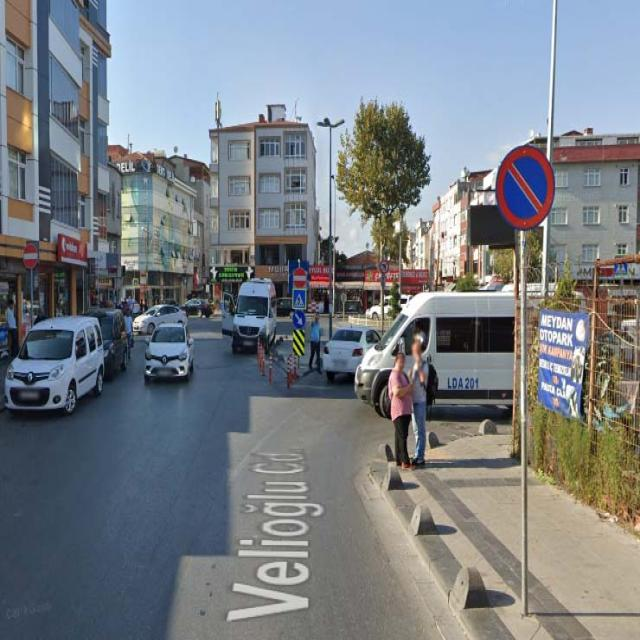girisyok: (23, 244, 38, 269), (293, 268, 306, 289)
parkyasak: (496, 146, 554, 231)
soladonulmez: (379, 259, 389, 273)
